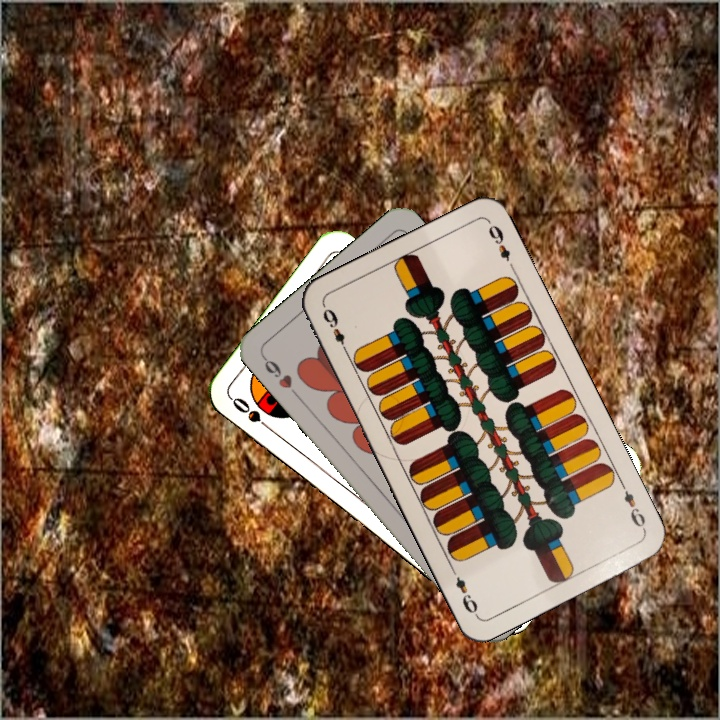E9: (318, 302, 352, 358), (616, 478, 648, 534)
H9: (258, 351, 302, 400)
SO: (228, 393, 278, 436)
